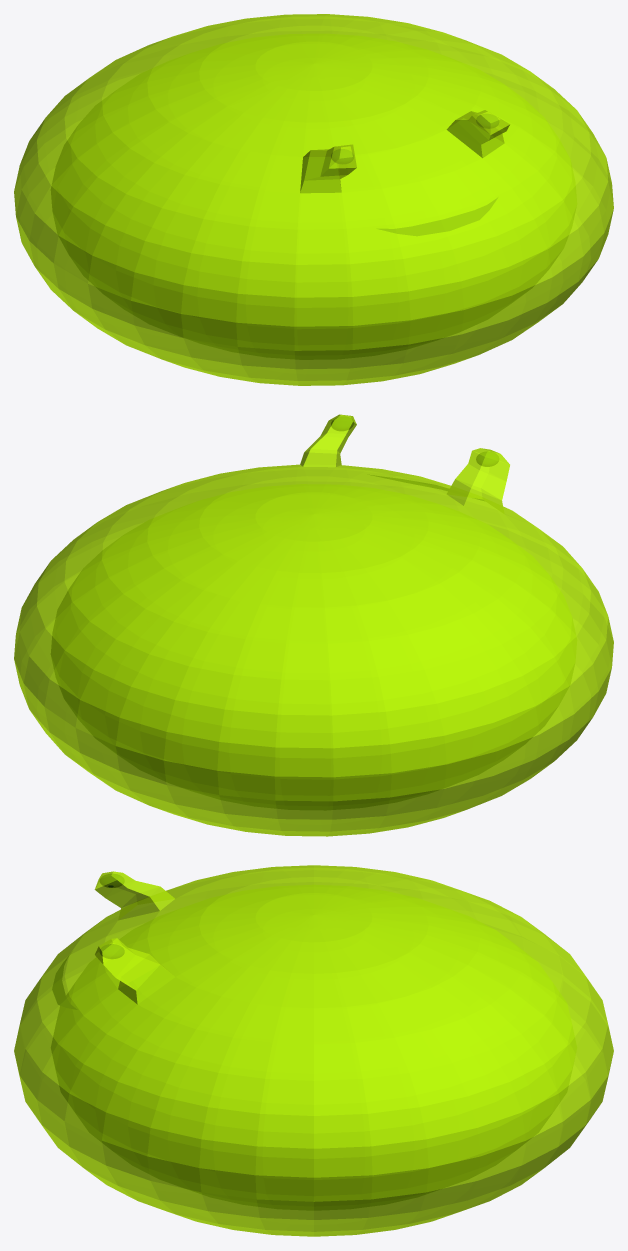
The model's file is ThisbetterfuckingworkIsweartoChristIwillriptheballsoffofsomebodywhoworkedonmakingMaya.fbx.
3 renders of one model, top to bottom at view 1: azimuth 30°, elevation 25°; view 2: azimuth 150°, elevation 25°; view 3: azimuth 270°, elevation 25°, orthographic.
Visible parts, largest first — view 1: SlimeGuy; view 2: SlimeGuy; view 3: SlimeGuy.
Part boxes in pixels (left/top/right/bottom): SlimeGuy: left=14, top=14, right=613, bottom=385; SlimeGuy: left=14, top=414, right=613, bottom=836; SlimeGuy: left=14, top=865, right=613, bottom=1236.
Size of the model in its own units: 228 by 117 by 228.
